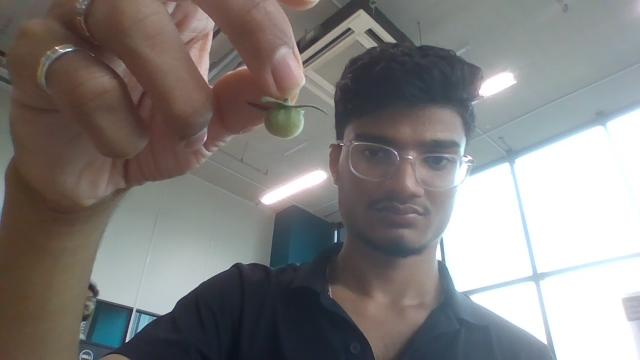Fruit Maturation: (263, 99, 305, 139)
